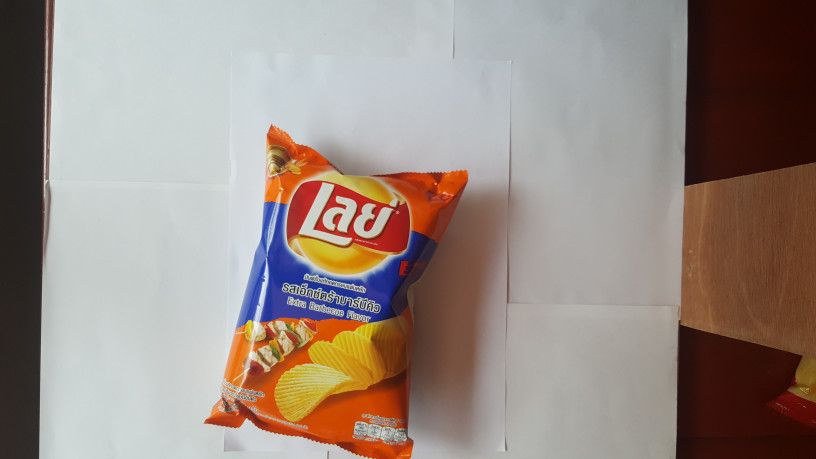lays-bbq: (210, 122, 472, 459)
